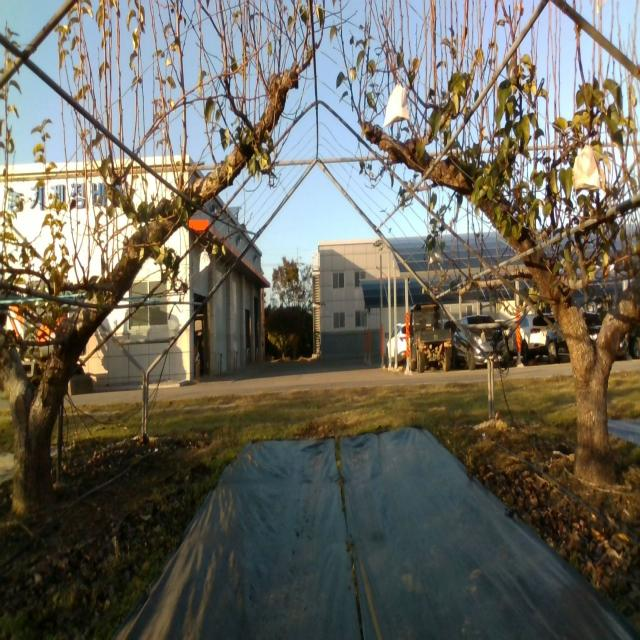pearbags: (573, 144, 602, 198), (383, 73, 410, 128), (428, 244, 444, 265), (198, 249, 210, 273)
